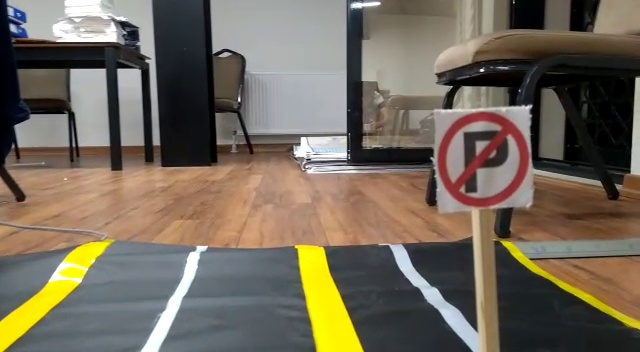park_yapilmaz: (431, 109, 535, 212)
